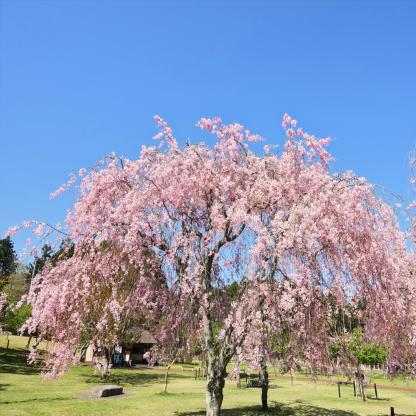ShidareZakura: (4, 113, 416, 415)
